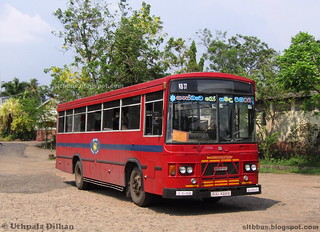bus: (55, 71, 262, 206)
